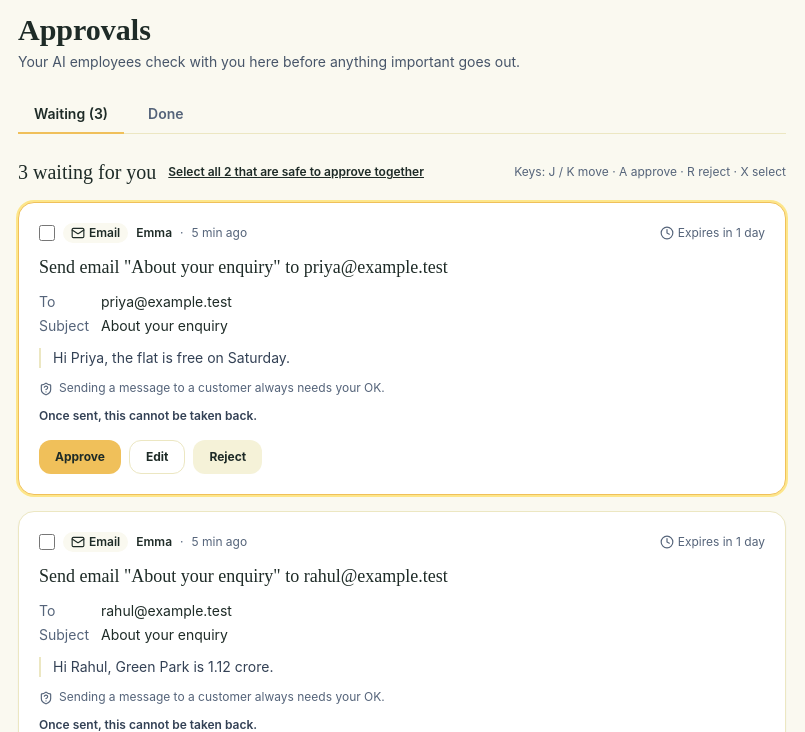
it: Approvals page › shows what was decided before, with how each one ended
Expected: the heading "Send email \"About your enquiry\" to priya@example.test" is shown, [39, 257, 448, 277]
Click the tab "Done" at (166, 115), box [132, 96, 200, 134]
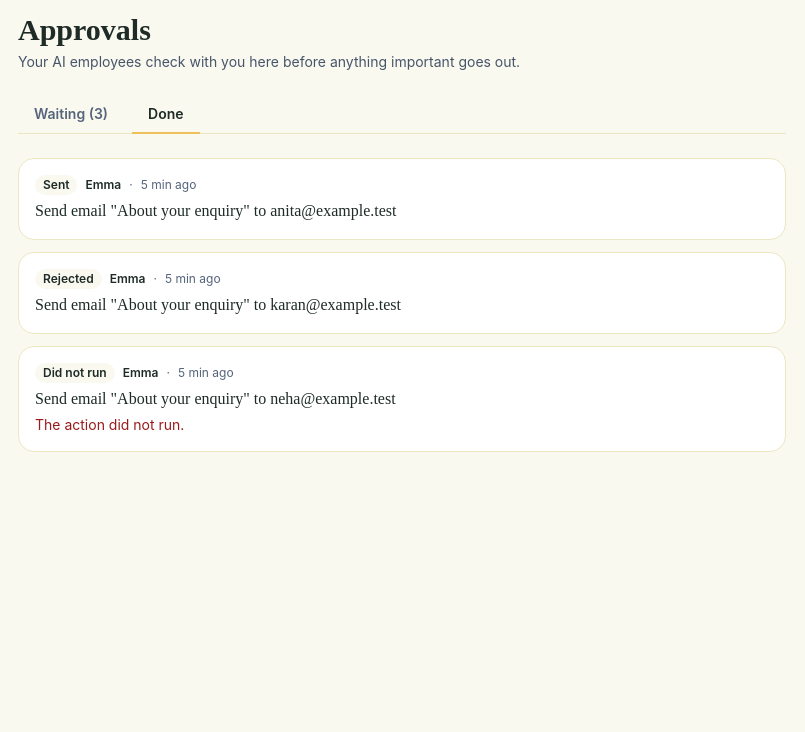
Expected: the heading "Send email \"About your enquiry\" to anita@example.test" is shown, [35, 202, 396, 219]
Expected: the text "Rejected" is shown, [35, 269, 102, 289]
Expected: the text "Did not run" is shown, [35, 363, 115, 383]
